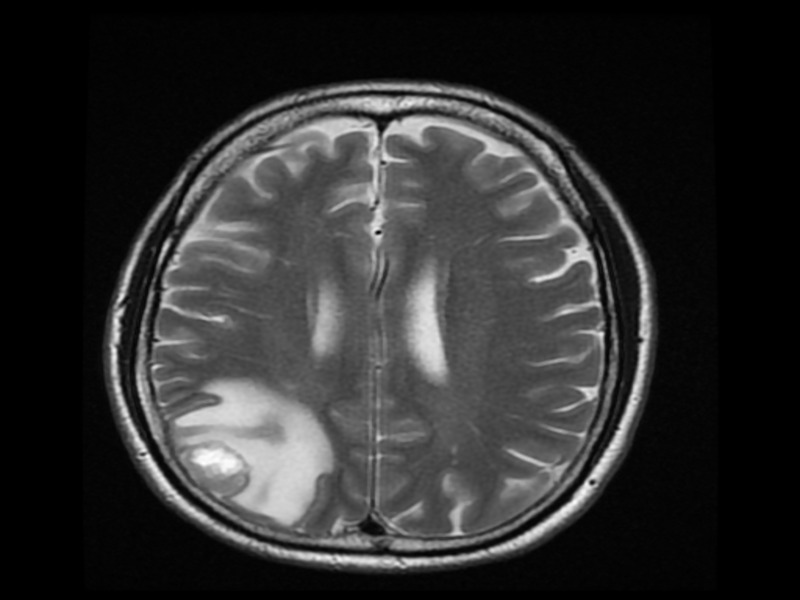tumor: (163, 374, 342, 535)
